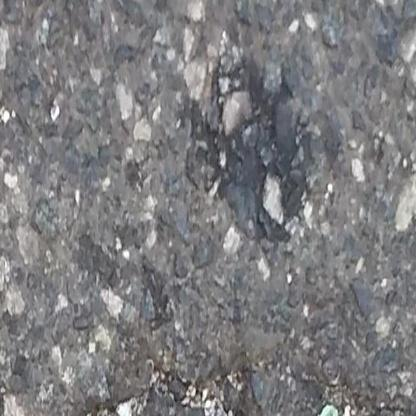Cracks: (58, 355, 416, 416)
